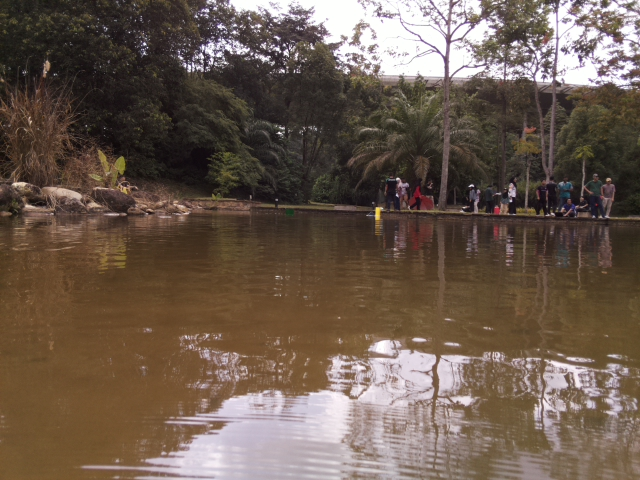obstacle: (284, 207, 294, 216)
